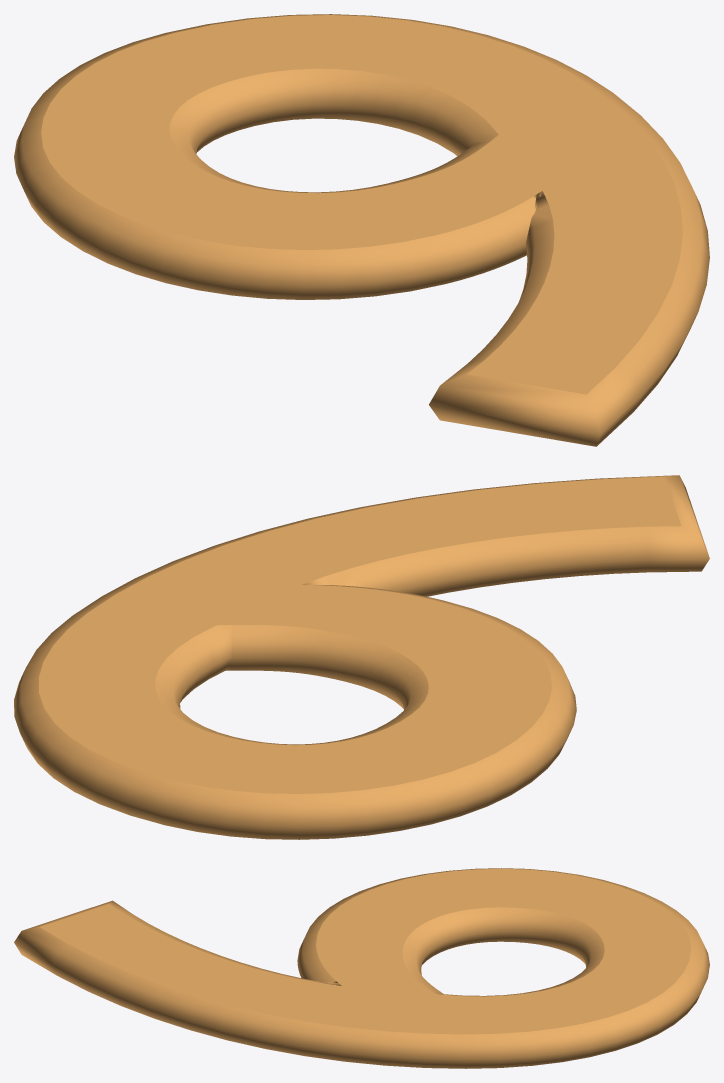
The model's file is side6.gltf.
3 renders of one model, top to bottom at view 1: azimuth 30°, elevation 25°; view 2: azimuth 150°, elevation 25°; view 3: azimuth 270°, elevation 25°, orthographic. The views are drawn at different scales.
Visible parts, largest first — view 1: Text; view 2: Text; view 3: Text.
Part boxes in pixels (<box>): Text: <box>14,14,709,446</box>; Text: <box>14,475,709,839</box>; Text: <box>14,868,709,1068</box>.
Size of the model in its own units: 0.3901 by 0.0338 by 0.6324.
